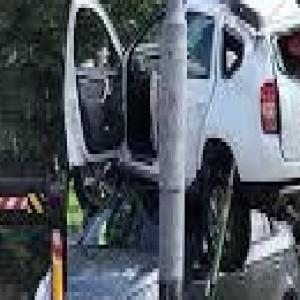critical: (25, 0, 300, 300)
